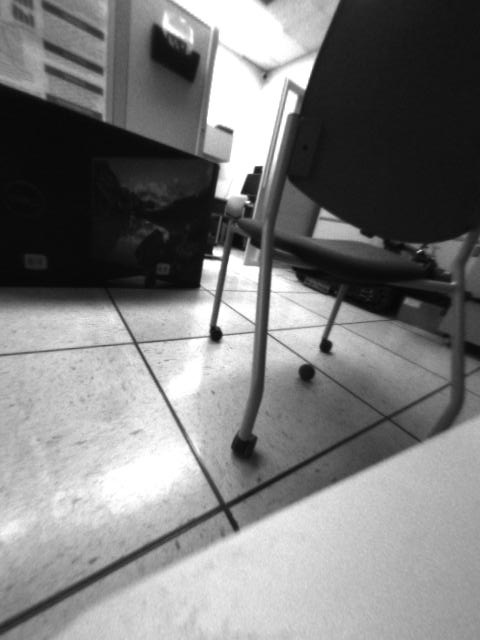dogtoy: (293, 354, 324, 390)
